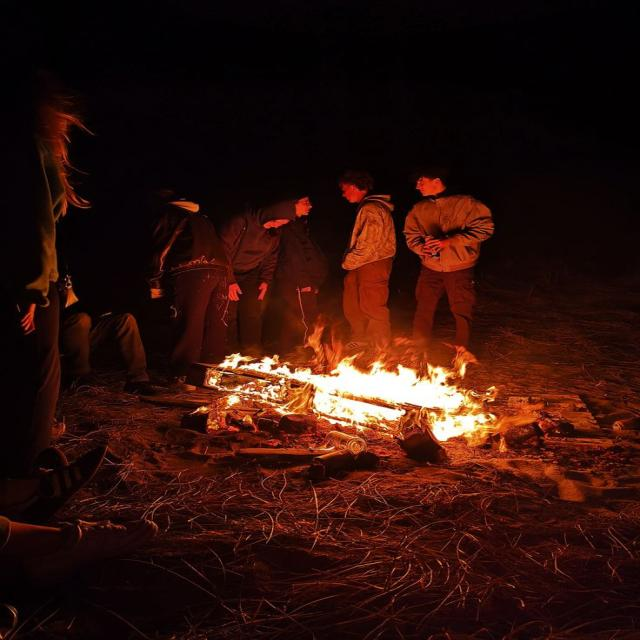fire: (314, 356, 495, 441), (219, 352, 317, 385)
